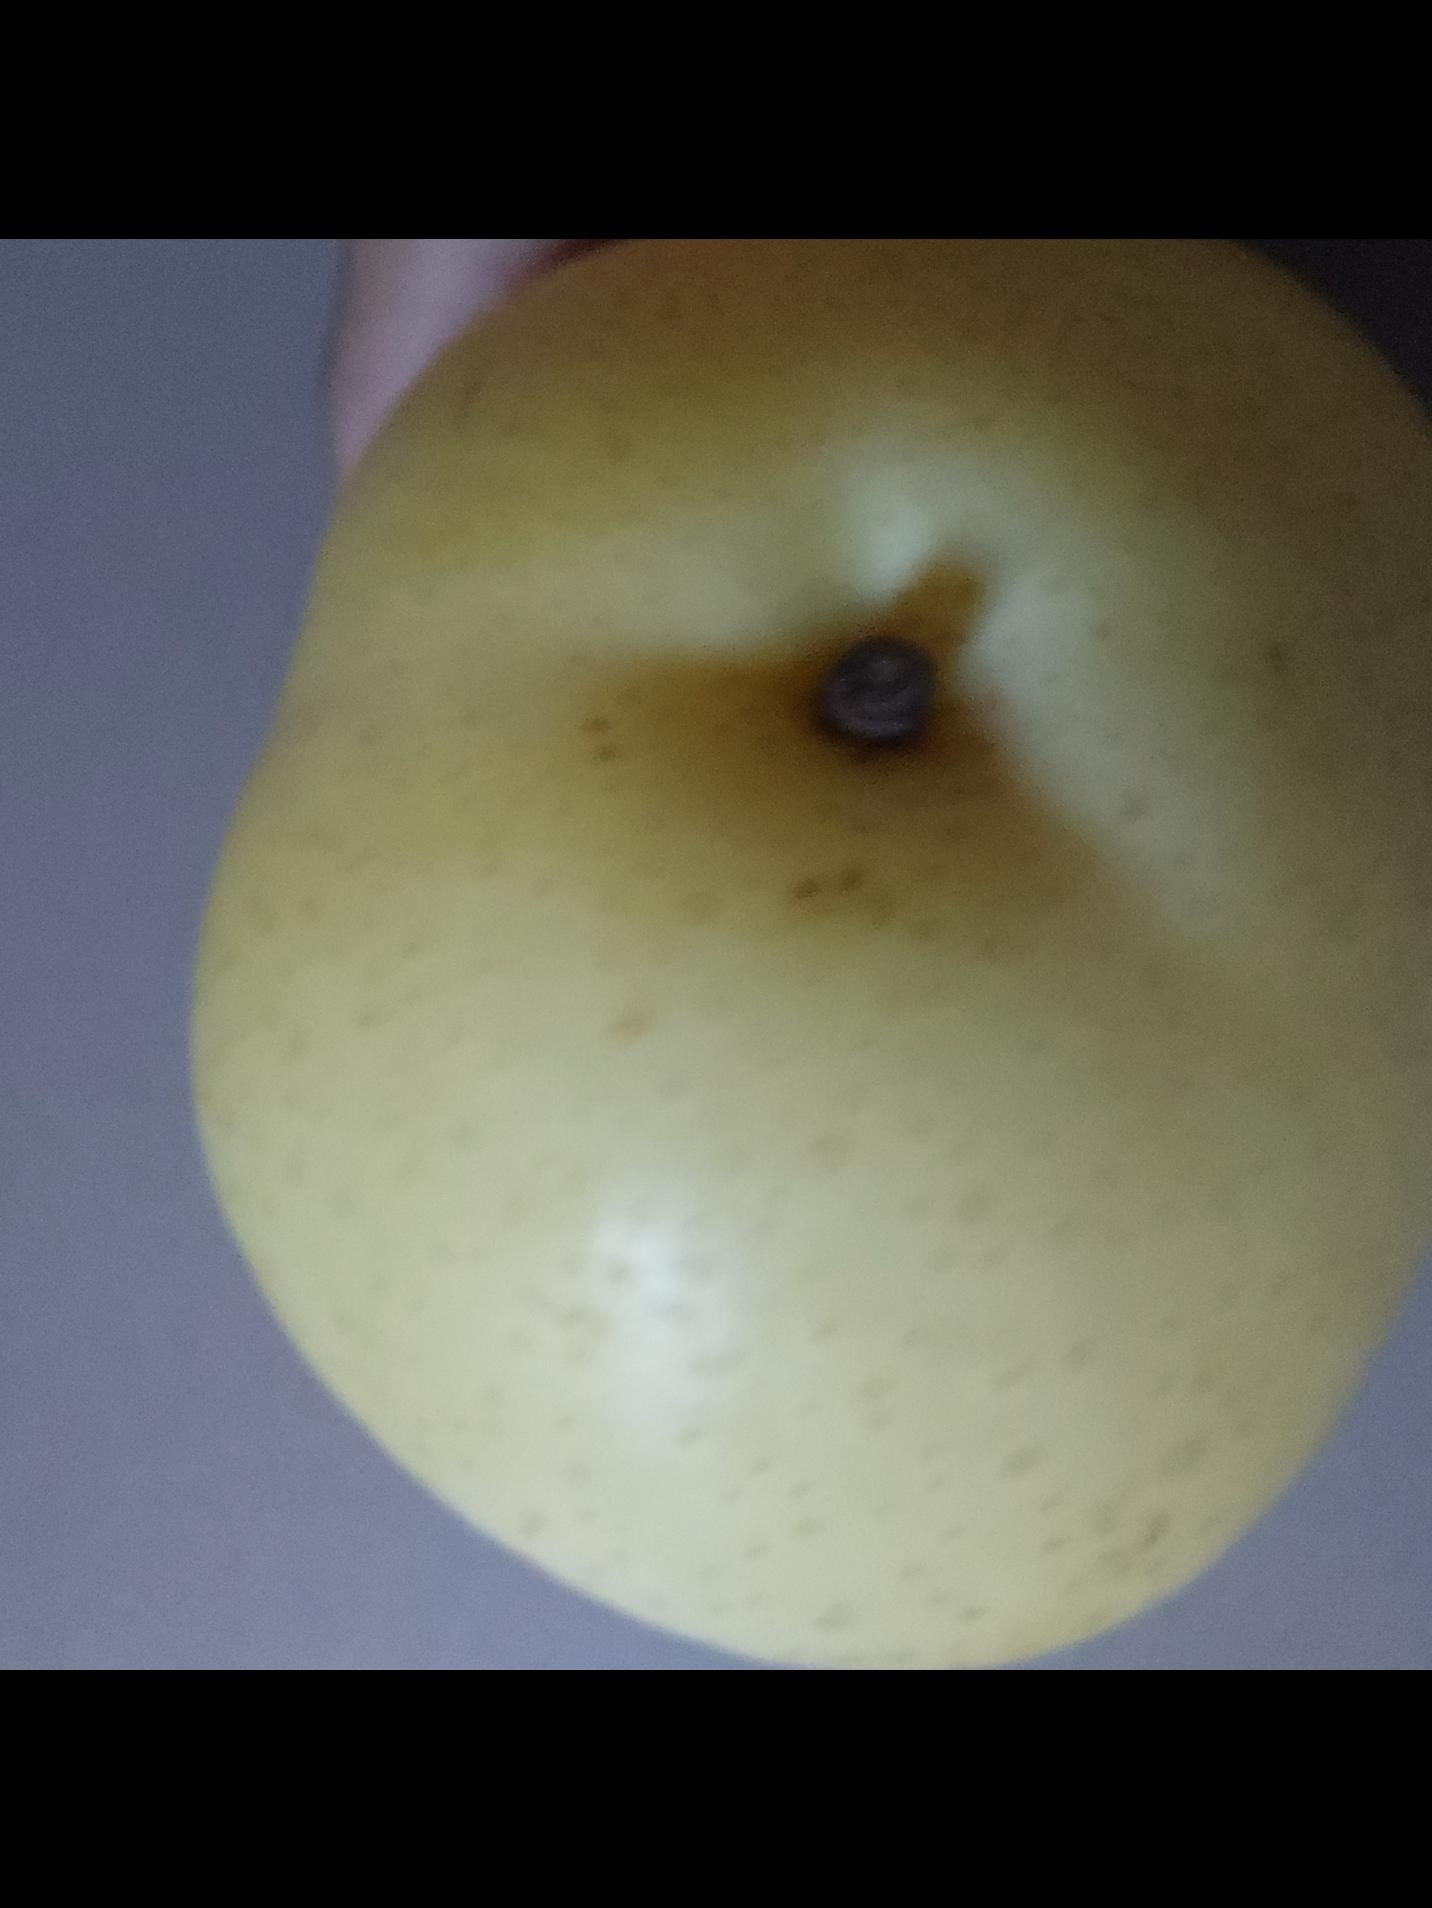Good Pear: (193, 238, 1432, 1670)
